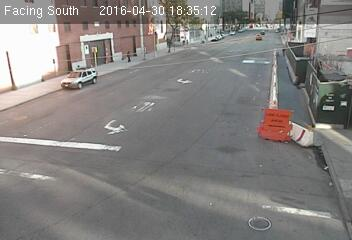neg: (218, 127, 245, 164), (55, 124, 78, 154), (15, 56, 32, 79), (58, 66, 75, 88), (268, 63, 282, 83), (314, 128, 328, 146), (47, 54, 61, 71), (88, 42, 100, 58), (131, 41, 140, 54), (205, 33, 213, 44), (256, 32, 263, 41)
pos: (123, 47, 135, 63)
